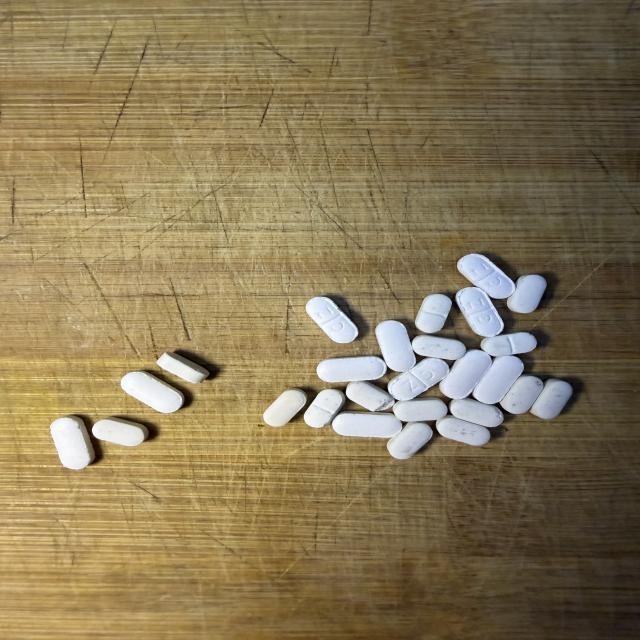pill: (121, 371, 184, 413), (388, 358, 448, 400), (458, 254, 515, 298), (440, 350, 491, 398), (473, 356, 523, 404), (306, 297, 358, 343), (51, 416, 94, 469), (456, 288, 503, 336), (376, 321, 415, 371), (317, 357, 386, 383), (333, 412, 401, 437), (530, 379, 572, 419), (500, 375, 543, 414), (387, 422, 432, 459), (263, 388, 306, 426), (157, 352, 209, 383), (92, 418, 148, 446), (436, 416, 490, 445), (449, 398, 503, 427), (304, 389, 345, 427), (507, 275, 546, 313), (346, 381, 395, 411), (415, 294, 451, 333), (481, 332, 536, 356), (412, 335, 466, 359), (394, 398, 447, 421)
